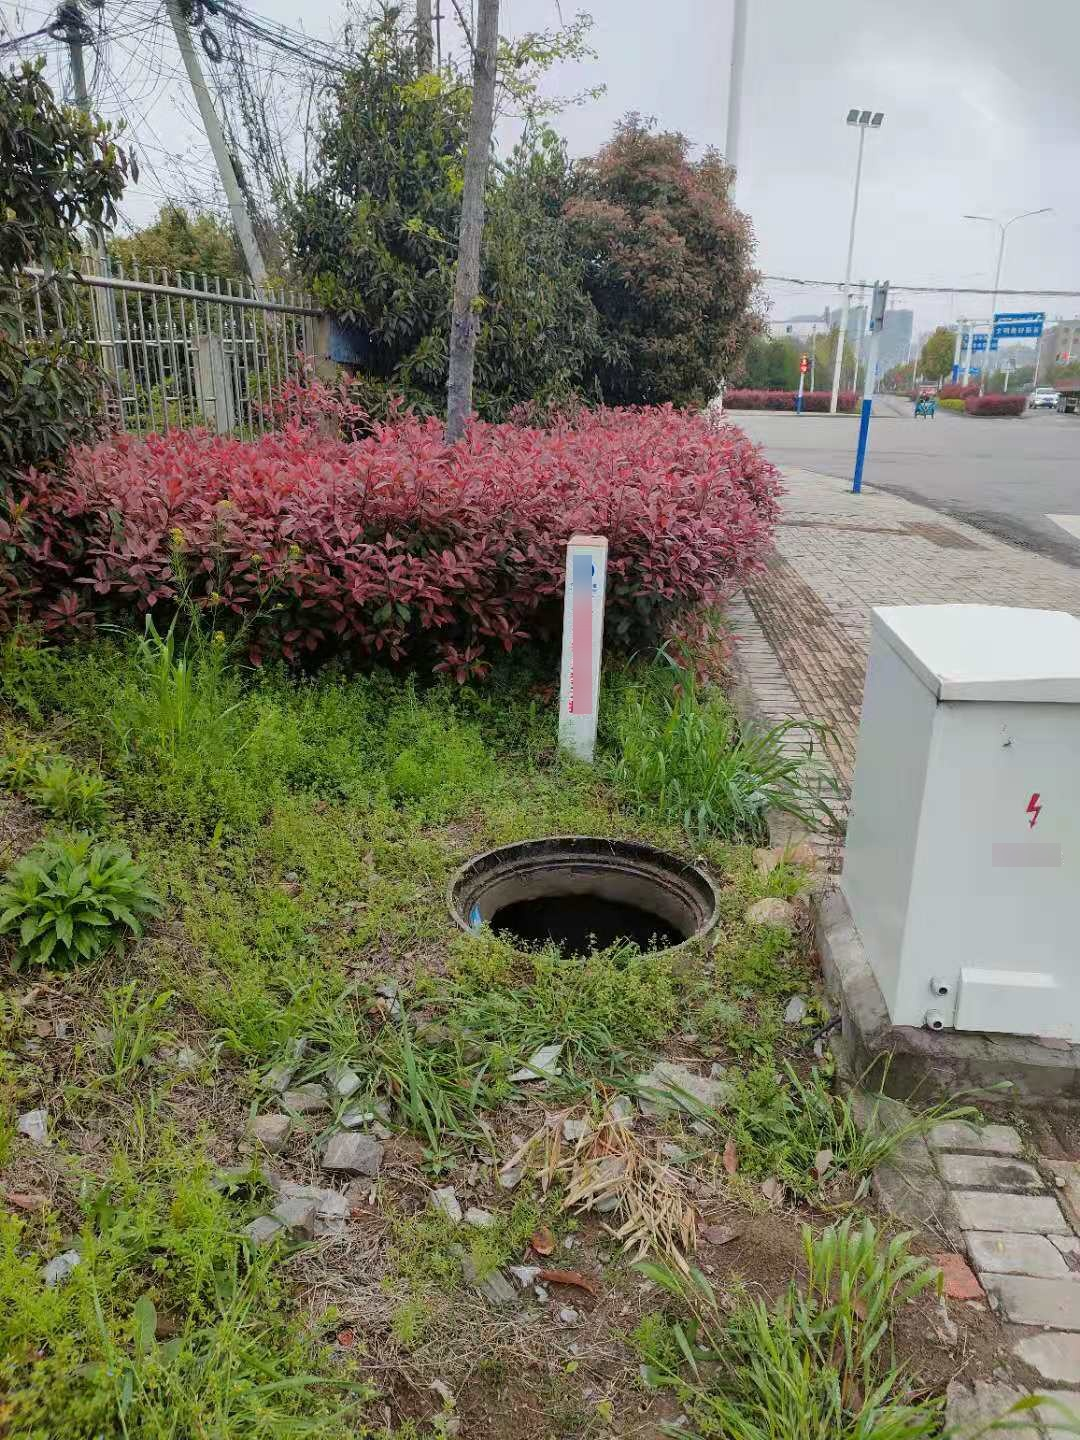well: (448, 832, 724, 962)
